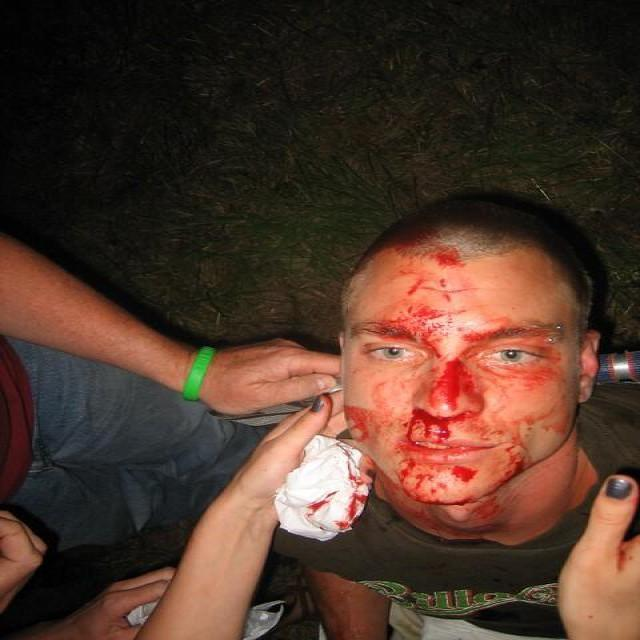flood: (398, 245, 507, 500)
